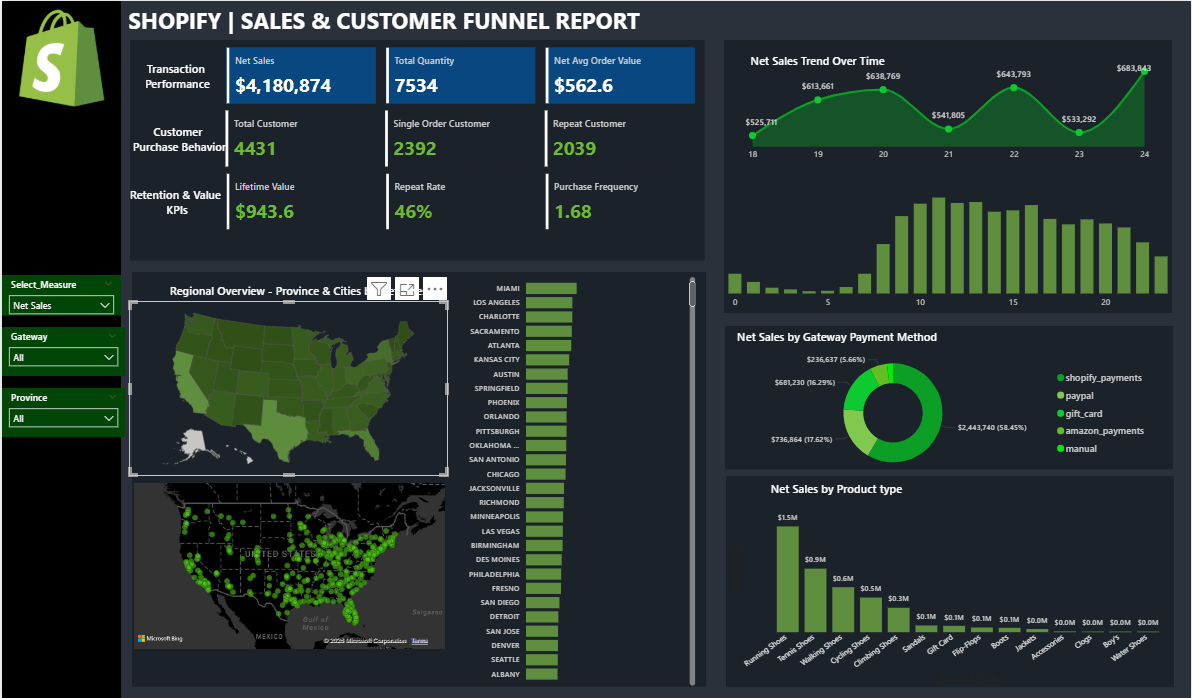

What the dashboard file says about the page in this screenshot:
{"tool":"powerbi","page":{"name":"Shopify Analysis","canvas":[1700,1000],"ordinal":0},"visuals":[{"type":"shape","box":[0,0,170,1000],"z":0},{"type":"textbox","box":[175.9,0,749,55.3],"z":1000},{"type":"shape","box":[182.6,55.3,821,315],"z":2000},{"type":"cardVisual","fields":{"Data":["shopify_sales.Net Sales","shopify_sales.Total Quantity","shopify_sales.Net Avg Order Value"]},"box":[315.3,61.9,680.3,90.5],"z":3000},{"type":"card","fields":{"Values":["shopify_sales.Transaction Perf"]},"box":[179,65.8,144.3,82.9],"z":4000},{"type":"cardVisual","fields":{"Data":["shopify_sales.Total Customer","shopify_sales.Single Order Customer","shopify_sales.Repeat Customer"]},"box":[314.8,151.4,680.7,90.9],"z":5000},{"type":"card","fields":{"Values":["shopify_sales.Customer Purchase Behavior"]},"box":[181.8,155.4,144.3,83],"z":6000},{"type":"cardVisual","fields":{"Data":["shopify_sales.Lifetime Value","shopify_sales.Repeat Rate","shopify_sales.Purchase Frequency"]},"box":[315.1,241.2,680.7,90.9],"z":7000},{"type":"card","fields":{"Values":["shopify_sales.Retention & Value KPI's"]},"box":[176.1,245.2,144.3,83],"z":8000},{"type":"shape","box":[185,387.5,820,592.5],"z":9000},{"type":"shapeMap","fields":{"Value":["shopify_sales.Net Sales"],"Category":["shopify_sales.Billing Address Province"]},"box":[181.7,428.3,455,250],"z":10000},{"type":"map","fields":{"Category":["shopify_sales.Location"]},"box":[184.3,683.6,454.1,246.3],"z":11000},{"type":"clusteredBarChart","fields":{"Y":["shopify_sales.Net Sales"],"Category":["shopify_sales.CITY"]},"box":[648.5,382,346.9,601.5],"z":12000},{"type":"card","fields":{"Values":["shopify_sales.Map Title"]},"box":[198.3,401.7,450,30],"z":13000},{"type":"shape","box":[1031.7,55,640,390],"z":14000},{"type":"areaChart","fields":{"Y":["shopify_sales.Net Sales"],"Category":["shopify_sales.Invoice Date.Variation.Date Hierarchy.Day"]},"box":[1056.7,76.7,590,160],"z":15000},{"type":"columnChart","fields":{"Y":["shopify_sales.Net Sales"],"Category":["shopify_sales.Hour"]},"box":[1031.7,253.3,640,195],"z":16000},{"type":"card","fields":{"Values":["shopify_sales.Trend Title"]},"box":[1032.2,67,264.7,40.2],"z":17000},{"type":"shape","box":[1032.2,464.1,640.1,205],"z":18000},{"type":"donutChart","fields":{"Y":["shopify_sales.Net Sales"],"Category":["shopify_sales.Gateway"]},"box":[1034.5,492.6,612.1,190.9],"z":19000},{"type":"card","fields":{"Values":["shopify_sales.Gatewat Title"]},"box":[1034.5,466.7,317.7,28.3],"z":20000},{"type":"shape","box":[1033.9,678.6,640.1,301.6],"z":21000},{"type":"columnChart","fields":{"Y":["shopify_sales.Net Sales"],"Category":["shopify_sales.Product Type"]},"box":[1033.9,712.1,640.1,268.1],"z":22000},{"type":"card","fields":{"Values":["shopify_sales.Product Title"]},"box":[1032.2,685.3,318.4,26.8],"z":23000},{"type":"slicer","fields":{"Values":["Select_Measure.Select_Measure"]},"box":[0,391.5,170,58.3],"z":24000},{"type":"image","box":[11.7,6.7,147.5,149.1],"z":25000},{"type":"slicer","fields":{"Values":["shopify_sales.Gateway"]},"box":[0,465.5,175.9,70.4],"z":26000},{"type":"slicer","fields":{"Values":["shopify_sales.Billing Address Province"]},"box":[0,553,175.9,70.4],"z":27000}]}

Visuals, with their boxes in screenshot pixels (x1, y1, x2, y2), scaled from the page's 1700x1000 canvas onto the 1192x698 screenshot:
shape: rect(0, 0, 119, 697)
textbox: rect(123, 0, 649, 39)
shape: rect(128, 39, 704, 258)
cardVisual - shopify_sales.Net Sales x shopify_sales.Total Quantity: rect(221, 43, 698, 106)
card - shopify_sales.Transaction Perf: rect(126, 46, 227, 104)
cardVisual - shopify_sales.Total Customer x shopify_sales.Single Order Customer: rect(221, 106, 698, 169)
card - shopify_sales.Customer Purchase Behavior: rect(127, 108, 229, 166)
cardVisual - shopify_sales.Lifetime Value x shopify_sales.Repeat Rate: rect(221, 168, 698, 232)
card - shopify_sales.Retention & Value KPI's: rect(123, 171, 225, 229)
shape: rect(130, 270, 705, 684)
shapeMap - shopify_sales.Net Sales x shopify_sales.Billing Address Province: rect(127, 299, 446, 473)
map - shopify_sales.Location: rect(129, 477, 448, 649)
clusteredBarChart - shopify_sales.Net Sales x shopify_sales.CITY: rect(455, 267, 698, 686)
card - shopify_sales.Map Title: rect(139, 280, 455, 301)
shape: rect(723, 38, 1172, 311)
areaChart - shopify_sales.Net Sales x shopify_sales.Invoice Date.Variation.Date Hierarchy.Day: rect(741, 54, 1155, 165)
columnChart - shopify_sales.Net Sales x shopify_sales.Hour: rect(723, 177, 1172, 313)
card - shopify_sales.Trend Title: rect(724, 47, 909, 75)
shape: rect(724, 324, 1173, 467)
donutChart - shopify_sales.Net Sales x shopify_sales.Gateway: rect(725, 344, 1155, 477)
card - shopify_sales.Gatewat Title: rect(725, 326, 948, 346)
shape: rect(725, 474, 1174, 684)
columnChart - shopify_sales.Net Sales x shopify_sales.Product Type: rect(725, 497, 1174, 684)
card - shopify_sales.Product Title: rect(724, 478, 947, 497)
slicer - Select_Measure.Select_Measure: rect(0, 273, 119, 314)
image: rect(8, 5, 112, 109)
slicer - shopify_sales.Gateway: rect(0, 325, 123, 374)
slicer - shopify_sales.Billing Address Province: rect(0, 386, 123, 435)
